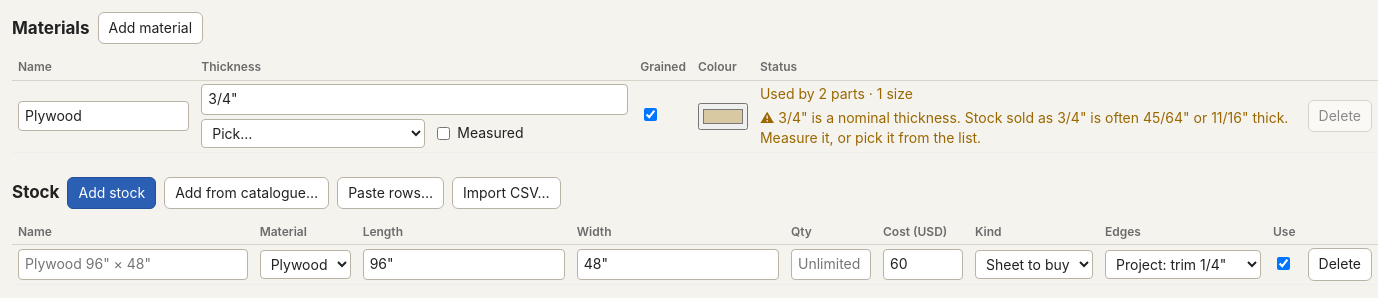
Test case: StockTab › stops the warning with Measured, and a typed thickness clears Measured
Click the checkbox named "Plywood thickness is measured": (444, 133) [437,127,450,140]
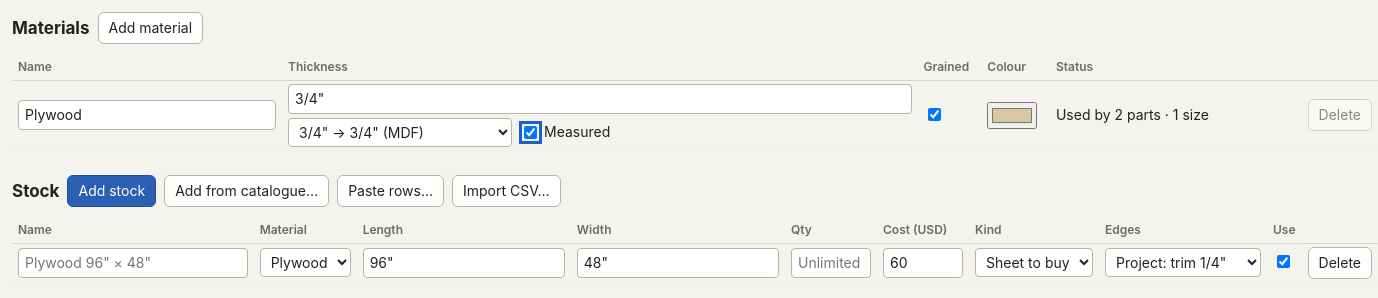
Expected: the text "nominal thickness" is gone
Replace the text in the field named "Thickness of Plywood" with "1/2": (600, 99) [288,84,912,114]
Then press Enter
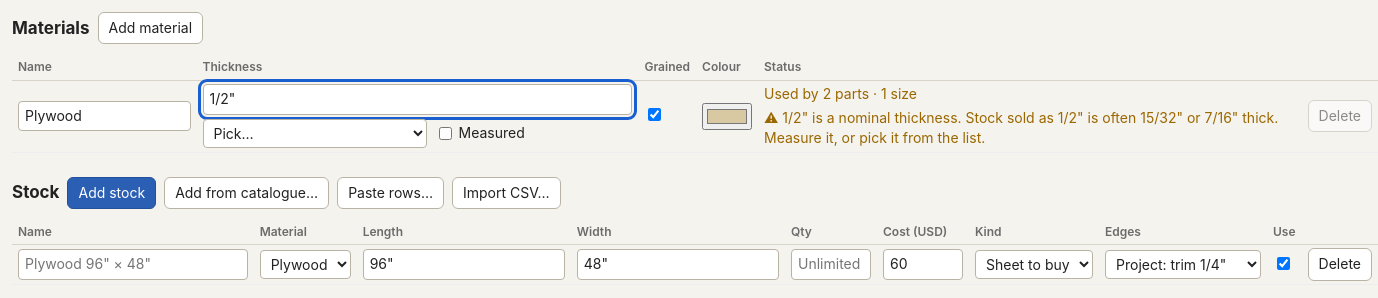
Expected: the cell that starts with "Used by 2 parts · 1 size" shows "1/2\" is a nominal thickness.", [782,109,1278,126]
